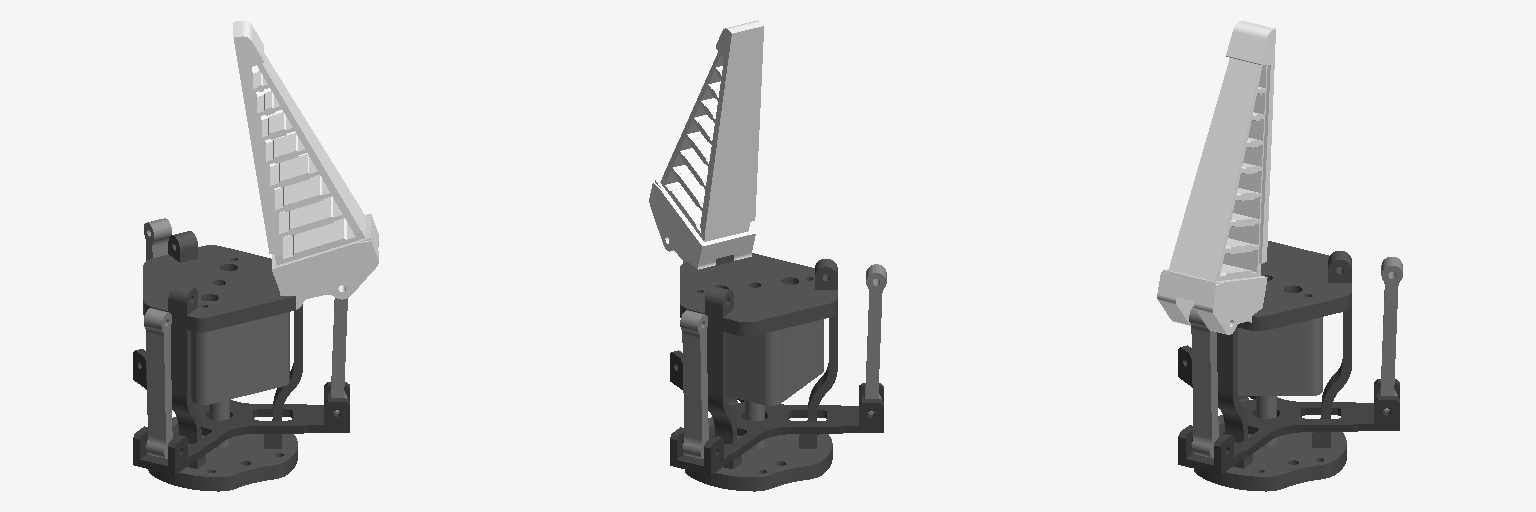
The robot description file, URDF, robot "gripper":
<?xml version="1.0" ?>
<!-- Generated using onshape-to-robot -->
<!-- Onshape document_id: 77ae2a3fa2dfa0e3fa6e957b -->
<robot name="gripper">
  <!-- Link 42_step_motor -->
  <link name="42_step_motor">
    <inertial>
      <origin xyz="0 0 0" rpy="0 0 0"/>
      <mass value="1e-09"/>
      <inertia ixx="1e-09" ixy="0" ixz="0" iyy="1e-09" iyz="0" izz="1e-09"/>
    </inertial>
    <!-- Part 42_step_motor -->
    <visual>
      <origin xyz="-0.00924528 -0.0810901 0.034284" rpy="-1.5708 -0 0"/>
      <geometry>
        <mesh filename="package://grasping_bringup/three_finger_gripper_urdf/assets/42_step_motor.stl"/>
      </geometry>
      <material name="42_step_motor_material">
        <color rgba="0.501961 0.501961 0.501961 1"/>
      </material>
    </visual>
    <collision>
      <origin xyz="-0.00924528 -0.0810901 0.034284" rpy="-1.5708 -0 0"/>
      <geometry>
        <mesh filename="package://grasping_bringup/three_finger_gripper_urdf/assets/42_step_motor.stl"/>
      </geometry>
    </collision>
    <!-- Part fa3_main_body -->
    <visual>
      <origin xyz="-0.00924528 -0.0810901 0.033684" rpy="-1.5708 -0 0"/>
      <geometry>
        <mesh filename="package://grasping_bringup/three_finger_gripper_urdf/assets/fa3_main_body.stl"/>
      </geometry>
      <material name="fa3_main_body_material">
        <color rgba="0.372549 0.372549 0.372549 1"/>
      </material>
    </visual>
    <collision>
      <origin xyz="-0.00924528 -0.0810901 0.033684" rpy="-1.5708 -0 0"/>
      <geometry>
        <mesh filename="package://grasping_bringup/three_finger_gripper_urdf/assets/fa3_main_body.stl"/>
      </geometry>
    </collision>
  </link>
  <!-- Frame closing_link_1_3_1 (dummy link + fixed joint) -->
  <link name="closing_link_1_3_1">
    <origin xyz="0 0 0" rpy="0 -0 0"/>
    <inertial>
      <origin xyz="0 0 0" rpy="0 0 0"/>
      <mass value="1e-9"/>
      <inertia ixx="0" ixy="0" ixz="0" iyy="0" iyz="0" izz="0"/>
    </inertial>
  </link>
  <joint name="closing_link_1_3_1_frame" type="fixed">
    <origin xyz="0.004 0.0275 0.079" rpy="-0 1.5708 0"/>
    <parent link="42_step_motor"/>
    <child link="closing_link_1_3_1"/>
    <axis xyz="0 0 0"/>
  </joint>
  <!-- Frame closing_link_1_3_1_z (dummy link + fixed joint) -->
  <link name="closing_link_1_3_1_z">
    <origin xyz="0 0 0" rpy="0 -0 0"/>
    <inertial>
      <origin xyz="0 0 0" rpy="0 0 0"/>
      <mass value="1e-9"/>
      <inertia ixx="0" ixy="0" ixz="0" iyy="0" iyz="0" izz="0"/>
    </inertial>
  </link>
  <joint name="closing_link_1_3_1_z_frame" type="fixed">
    <origin xyz="0.104 0.0275 0.079" rpy="-0 1.5708 0"/>
    <parent link="42_step_motor"/>
    <child link="closing_link_1_3_1_z"/>
    <axis xyz="0 0 0"/>
  </joint>
  <!-- Frame closing_link_2_3_2 (dummy link + fixed joint) -->
  <link name="closing_link_2_3_2">
    <origin xyz="0 0 0" rpy="0 -0 0"/>
    <inertial>
      <origin xyz="0 0 0" rpy="0 0 0"/>
      <mass value="1e-9"/>
      <inertia ixx="0" ixy="0" ixz="0" iyy="0" iyz="0" izz="0"/>
    </inertial>
  </link>
  <joint name="closing_link_2_3_2_frame" type="fixed">
    <origin xyz="-0.0258157 -0.0102859 0.079" rpy="1.5708 -0 0.523599"/>
    <parent link="42_step_motor"/>
    <child link="closing_link_2_3_2"/>
    <axis xyz="0 0 0"/>
  </joint>
  <!-- Frame closing_link_2_3_2_z (dummy link + fixed joint) -->
  <link name="closing_link_2_3_2_z">
    <origin xyz="0 0 0" rpy="0 -0 0"/>
    <inertial>
      <origin xyz="0 0 0" rpy="0 0 0"/>
      <mass value="1e-9"/>
      <inertia ixx="0" ixy="0" ixz="0" iyy="0" iyz="0" izz="0"/>
    </inertial>
  </link>
  <joint name="closing_link_2_3_2_z_frame" type="fixed">
    <origin xyz="0.0241843 -0.0968884 0.079" rpy="1.5708 -0 0.523599"/>
    <parent link="42_step_motor"/>
    <child link="closing_link_2_3_2_z"/>
    <axis xyz="0 0 0"/>
  </joint>
  <!-- Frame closing_link_3_3_1 (dummy link + fixed joint) -->
  <link name="closing_link_3_3_1">
    <origin xyz="0 0 0" rpy="0 -0 0"/>
    <inertial>
      <origin xyz="0 0 0" rpy="0 0 0"/>
      <mass value="1e-9"/>
      <inertia ixx="0" ixy="0" ixz="0" iyy="0" iyz="0" izz="0"/>
    </inertial>
  </link>
  <joint name="closing_link_3_3_1_frame" type="fixed">
    <origin xyz="0.0258157 -0.0102859 0.079" rpy="-1.5708 -0 -0.523599"/>
    <parent link="42_step_motor"/>
    <child link="closing_link_3_3_1"/>
    <axis xyz="0 0 0"/>
  </joint>
  <!-- Frame closing_link_3_3_1_z (dummy link + fixed joint) -->
  <link name="closing_link_3_3_1_z">
    <origin xyz="0 0 0" rpy="0 -0 0"/>
    <inertial>
      <origin xyz="0 0 0" rpy="0 0 0"/>
      <mass value="1e-9"/>
      <inertia ixx="0" ixy="0" ixz="0" iyy="0" iyz="0" izz="0"/>
    </inertial>
  </link>
  <joint name="closing_link_3_3_1_z_frame" type="fixed">
    <origin xyz="0.0758157 0.0763166 0.079" rpy="-1.5708 -0 -0.523599"/>
    <parent link="42_step_motor"/>
    <child link="closing_link_3_3_1_z"/>
    <axis xyz="0 0 0"/>
  </joint>
  <!-- Frame eef (dummy link + fixed joint) -->
  <link name="eef">
    <origin xyz="0 0 0" rpy="0 -0 0"/>
    <inertial>
      <origin xyz="0 0 0" rpy="0 0 0"/>
      <mass value="1e-9"/>
      <inertia ixx="0" ixy="0" ixz="0" iyy="0" iyz="0" izz="0"/>
    </inertial>
  </link>
  <joint name="eef_frame" type="fixed">
    <origin xyz="1.26635e-16 -6.93889e-17 0.184" rpy="0 -0 0"/>
    <parent link="42_step_motor"/>
    <child link="eef"/>
    <axis xyz="0 0 0"/>
  </joint>
  <!-- Link 42_motor_nut -->
  <link name="42_motor_nut">
    <inertial>
      <origin xyz="0 0 0" rpy="0 0 0"/>
      <mass value="1e-09"/>
      <inertia ixx="1e-09" ixy="0" ixz="0" iyy="1e-09" iyz="0" izz="1e-09"/>
    </inertial>
    <!-- Part fa3_driveboard -->
    <visual>
      <origin xyz="-0.00924528 -0.0810901 0.0190666" rpy="-1.5708 -4.90029e-16 0"/>
      <geometry>
        <mesh filename="package://grasping_bringup/three_finger_gripper_urdf/assets/fa3_driveboard.stl"/>
      </geometry>
      <material name="fa3_driveboard_material">
        <color rgba="0.309804 0.309804 0.309804 1"/>
      </material>
    </visual>
    <collision>
      <origin xyz="-0.00924528 -0.0810901 0.0190666" rpy="-1.5708 -4.90029e-16 0"/>
      <geometry>
        <mesh filename="package://grasping_bringup/three_finger_gripper_urdf/assets/fa3_driveboard.stl"/>
      </geometry>
    </collision>
    <!-- Part 42_motor_nut -->
    <visual>
      <origin xyz="-0.00924528 -0.0810901 0.0190666" rpy="-1.5708 -0 0"/>
      <geometry>
        <mesh filename="package://grasping_bringup/three_finger_gripper_urdf/assets/42_motor_nut.stl"/>
      </geometry>
      <material name="42_motor_nut_material">
        <color rgba="1 0.952941 0.380392 1"/>
      </material>
    </visual>
    <collision>
      <origin xyz="-0.00924528 -0.0810901 0.0190666" rpy="-1.5708 -0 0"/>
      <geometry>
        <mesh filename="package://grasping_bringup/three_finger_gripper_urdf/assets/42_motor_nut.stl"/>
      </geometry>
    </collision>
  </link>
  <!-- Link fa3_link_2 -->
  <link name="fa3_link_2">
    <inertial>
      <origin xyz="0 0 0" rpy="0 0 0"/>
      <mass value="1e-09"/>
      <inertia ixx="1e-09" ixy="0" ixz="0" iyy="1e-09" iyz="0" izz="1e-09"/>
    </inertial>
    <!-- Part fa3_link_2 -->
    <visual>
      <origin xyz="-0.0147666 0.12609 0.00524528" rpy="1.5708 1.5708 0"/>
      <geometry>
        <mesh filename="package://grasping_bringup/three_finger_gripper_urdf/assets/fa3_link_2.stl"/>
      </geometry>
      <material name="fa3_link_2_material">
        <color rgba="0.603922 0.603922 0.603922 1"/>
      </material>
    </visual>
    <collision>
      <origin xyz="-0.0147666 0.12609 0.00524528" rpy="1.5708 1.5708 0"/>
      <geometry>
        <mesh filename="package://grasping_bringup/three_finger_gripper_urdf/assets/fa3_link_2.stl"/>
      </geometry>
    </collision>
  </link>
  <!-- Link famr20100_soft_2 -->
  <link name="famr20100_soft_2">
    <inertial>
      <origin xyz="0 0 0" rpy="0 0 0"/>
      <mass value="1e-09"/>
      <inertia ixx="1e-09" ixy="0" ixz="0" iyy="1e-09" iyz="0" izz="1e-09"/>
    </inertial>
    <!-- Part famr20100_soft_2 -->
    <visual>
      <origin xyz="0.100828 -0.0875338 -0.00524528" rpy="-1.013 -1.5708 0"/>
      <geometry>
        <mesh filename="package://grasping_bringup/three_finger_gripper_urdf/assets/famr20100_soft_2.stl"/>
      </geometry>
      <material name="famr20100_soft_2_material">
        <color rgba="1 1 1 1"/>
      </material>
    </visual>
    <collision>
      <origin xyz="0.100828 -0.0875338 -0.00524528" rpy="-1.013 -1.5708 0"/>
      <geometry>
        <mesh filename="package://grasping_bringup/three_finger_gripper_urdf/assets/famr20100_soft_2.stl"/>
      </geometry>
    </collision>
  </link>
  <!-- Frame closing_link_1_3_2 (dummy link + fixed joint) -->
  <link name="closing_link_1_3_2">
    <origin xyz="0 0 0" rpy="0 -0 0"/>
    <inertial>
      <origin xyz="0 0 0" rpy="0 0 0"/>
      <mass value="1e-9"/>
      <inertia ixx="0" ixy="0" ixz="0" iyy="0" iyz="0" izz="0"/>
    </inertial>
  </link>
  <joint name="closing_link_1_3_2_frame" type="fixed">
    <origin xyz="0.00490177 -0.01939 0.008" rpy="-6.17872e-23 -2.78409e-23 0.557797"/>
    <parent link="famr20100_soft_2"/>
    <child link="closing_link_1_3_2"/>
    <axis xyz="0 0 0"/>
  </joint>
  <!-- Frame closing_link_1_3_2_z (dummy link + fixed joint) -->
  <link name="closing_link_1_3_2_z">
    <origin xyz="0 0 0" rpy="0 -0 0"/>
    <inertial>
      <origin xyz="0 0 0" rpy="0 0 0"/>
      <mass value="1e-9"/>
      <inertia ixx="0" ixy="0" ixz="0" iyy="0" iyz="0" izz="0"/>
    </inertial>
  </link>
  <joint name="closing_link_1_3_2_z_frame" type="fixed">
    <origin xyz="0.00490177 -0.01939 0.108" rpy="-6.17872e-23 -2.78409e-23 0.557797"/>
    <parent link="famr20100_soft_2"/>
    <child link="closing_link_1_3_2_z"/>
    <axis xyz="0 0 0"/>
  </joint>
  <!-- Joint from fa3_link_2 to famr20100_soft_2 -->
  <joint name="link_1_2" type="revolute">
    <origin xyz="-0.0539779 -0.00154554 0" rpy="3.14159 -1.46937e-39 0"/>
    <parent link="fa3_link_2"/>
    <child link="famr20100_soft_2"/>
    <axis xyz="0 0 1"/>
    <limit effort="10" velocity="10" lower="-3.141592653589793" upper="3.141592653589793"/>
  </joint>
  <!-- Joint from 42_motor_nut to fa3_link_2 -->
  <joint name="link_1_1" type="revolute">
    <origin xyz="-0.004 0.045 0.0043" rpy="1.5708 1.56379 -1.5708"/>
    <parent link="42_motor_nut"/>
    <child link="fa3_link_2"/>
    <axis xyz="0 0 1"/>
    <limit effort="10" velocity="10" lower="-3.141592653589793" upper="3.141592653589793"/>
  </joint>
  <!-- Link fa3_link -->
  <link name="fa3_link">
    <inertial>
      <origin xyz="0 0 0" rpy="0 0 0"/>
      <mass value="1e-09"/>
      <inertia ixx="1e-09" ixy="0" ixz="0" iyy="1e-09" iyz="0" izz="1e-09"/>
    </inertial>
    <!-- Part fa3_link -->
    <visual>
      <origin xyz="-0.00355171 0.0147666 0.0616035" rpy="3.14159 -0.523599 3.83739e-20"/>
      <geometry>
        <mesh filename="package://grasping_bringup/three_finger_gripper_urdf/assets/fa3_link.stl"/>
      </geometry>
      <material name="fa3_link_material">
        <color rgba="0.603922 0.603922 0.603922 1"/>
      </material>
    </visual>
    <collision>
      <origin xyz="-0.00355171 0.0147666 0.0616035" rpy="3.14159 -0.523599 3.83739e-20"/>
      <geometry>
        <mesh filename="package://grasping_bringup/three_finger_gripper_urdf/assets/fa3_link.stl"/>
      </geometry>
    </collision>
  </link>
  <!-- Link famr20100_soft_1 -->
  <link name="famr20100_soft_1">
    <inertial>
      <origin xyz="0 0 0" rpy="0 0 0"/>
      <mass value="1e-09"/>
      <inertia ixx="1e-09" ixy="0" ixz="0" iyy="1e-09" iyz="0" izz="1e-09"/>
    </inertial>
    <!-- Part famr20100_soft_1 -->
    <visual>
      <origin xyz="-0.00200617 0.0392113 -0.0616035" rpy="4.16642e-16 0.523599 -4.00617e-18"/>
      <geometry>
        <mesh filename="package://grasping_bringup/three_finger_gripper_urdf/assets/famr20100_soft_1.stl"/>
      </geometry>
      <material name="famr20100_soft_1_material">
        <color rgba="1 1 1 1"/>
      </material>
    </visual>
    <collision>
      <origin xyz="-0.00200617 0.0392113 -0.0616035" rpy="4.16642e-16 0.523599 -4.00617e-18"/>
      <geometry>
        <mesh filename="package://grasping_bringup/three_finger_gripper_urdf/assets/famr20100_soft_1.stl"/>
      </geometry>
    </collision>
  </link>
  <!-- Frame closing_link_2_3_1 (dummy link + fixed joint) -->
  <link name="closing_link_2_3_1">
    <origin xyz="0 0 0" rpy="0 -0 0"/>
    <inertial>
      <origin xyz="0 0 0" rpy="0 0 0"/>
      <mass value="1e-9"/>
      <inertia ixx="0" ixy="0" ixz="0" iyy="0" iyz="0" izz="0"/>
    </inertial>
  </link>
  <joint name="closing_link_2_3_1_frame" type="fixed">
    <origin xyz="0.0190455 -0.00610471 0.008" rpy="-3.14159 1.11022e-16 6.93889e-17"/>
    <parent link="famr20100_soft_1"/>
    <child link="closing_link_2_3_1"/>
    <axis xyz="0 0 0"/>
  </joint>
  <!-- Frame closing_link_2_3_1_z (dummy link + fixed joint) -->
  <link name="closing_link_2_3_1_z">
    <origin xyz="0 0 0" rpy="0 -0 0"/>
    <inertial>
      <origin xyz="0 0 0" rpy="0 0 0"/>
      <mass value="1e-9"/>
      <inertia ixx="0" ixy="0" ixz="0" iyy="0" iyz="0" izz="0"/>
    </inertial>
  </link>
  <joint name="closing_link_2_3_1_z_frame" type="fixed">
    <origin xyz="0.0190455 -0.00610471 -0.092" rpy="-3.14159 1.11022e-16 6.93889e-17"/>
    <parent link="famr20100_soft_1"/>
    <child link="closing_link_2_3_1_z"/>
    <axis xyz="0 0 0"/>
  </joint>
  <!-- Joint from fa3_link to famr20100_soft_1 -->
  <joint name="link_2_2" type="revolute">
    <origin xyz="-0.00154554 0.0539779 -3.81639e-17" rpy="-3.14159 -6.32827e-15 -0.557797"/>
    <parent link="fa3_link"/>
    <child link="famr20100_soft_1"/>
    <axis xyz="0 0 1"/>
    <limit effort="10" velocity="10" lower="-3.141592653589793" upper="3.141592653589793"/>
  </joint>
  <!-- Joint from 42_motor_nut to fa3_link -->
  <joint name="link_2_1" type="revolute">
    <origin xyz="-0.0369711 -0.0259641 0.0043" rpy="1.5708 -0.00701038 0.523599"/>
    <parent link="42_motor_nut"/>
    <child link="fa3_link"/>
    <axis xyz="0 0 1"/>
    <limit effort="10" velocity="10" lower="-3.141592653589793" upper="3.141592653589793"/>
  </joint>
  <!-- Link fa3_link_1 -->
  <link name="fa3_link_1">
    <inertial>
      <origin xyz="0 0 0" rpy="0 0 0"/>
      <mass value="1e-09"/>
      <inertia ixx="1e-09" ixy="0" ixz="0" iyy="1e-09" iyz="0" izz="1e-09"/>
    </inertial>
    <!-- Part fa3_link_1 -->
    <visual>
      <origin xyz="-0.0124616 -0.0147666 -0.0788487" rpy="5.08283e-16 -0.523599 -1.18922e-18"/>
      <geometry>
        <mesh filename="package://grasping_bringup/three_finger_gripper_urdf/assets/fa3_link_1.stl"/>
      </geometry>
      <material name="fa3_link_1_material">
        <color rgba="0.603922 0.603922 0.603922 1"/>
      </material>
    </visual>
    <collision>
      <origin xyz="-0.0124616 -0.0147666 -0.0788487" rpy="5.08283e-16 -0.523599 -1.18922e-18"/>
      <geometry>
        <mesh filename="package://grasping_bringup/three_finger_gripper_urdf/assets/fa3_link_1.stl"/>
      </geometry>
    </collision>
  </link>
  <!-- Link famr20100_soft -->
  <link name="famr20100_soft">
    <inertial>
      <origin xyz="0 0 0" rpy="0 0 0"/>
      <mass value="1e-09"/>
      <inertia ixx="1e-09" ixy="0" ixz="0" iyy="1e-09" iyz="0" izz="1e-09"/>
    </inertial>
    <!-- Part famr20100_soft -->
    <visual>
      <origin xyz="0.00887129 0.040682 -0.0708487" rpy="2.56395e-15 -0.523599 -0.557797"/>
      <geometry>
        <mesh filename="package://grasping_bringup/three_finger_gripper_urdf/assets/famr20100_soft.stl"/>
      </geometry>
      <material name="famr20100_soft_material">
        <color rgba="1 1 1 1"/>
      </material>
    </visual>
    <collision>
      <origin xyz="0.00887129 0.040682 -0.0708487" rpy="2.56395e-15 -0.523599 -0.557797"/>
      <geometry>
        <mesh filename="package://grasping_bringup/three_finger_gripper_urdf/assets/famr20100_soft.stl"/>
      </geometry>
    </collision>
  </link>
  <!-- Frame closing_link_3_3_2 (dummy link + fixed joint) -->
  <link name="closing_link_3_3_2">
    <origin xyz="0 0 0" rpy="0 -0 0"/>
    <inertial>
      <origin xyz="0 0 0" rpy="0 0 0"/>
      <mass value="1e-9"/>
      <inertia ixx="0" ixy="0" ixz="0" iyy="0" iyz="0" izz="0"/>
    </inertial>
  </link>
  <joint name="closing_link_3_3_2_frame" type="fixed">
    <origin xyz="-0.01939 0.00490177 0.008" rpy="4.996e-16 1.60982e-15 -2.12859"/>
    <parent link="famr20100_soft"/>
    <child link="closing_link_3_3_2"/>
    <axis xyz="0 0 0"/>
  </joint>
  <!-- Frame closing_link_3_3_2_z (dummy link + fixed joint) -->
  <link name="closing_link_3_3_2_z">
    <origin xyz="0 0 0" rpy="0 -0 0"/>
    <inertial>
      <origin xyz="0 0 0" rpy="0 0 0"/>
      <mass value="1e-9"/>
      <inertia ixx="0" ixy="0" ixz="0" iyy="0" iyz="0" izz="0"/>
    </inertial>
  </link>
  <joint name="closing_link_3_3_2_z_frame" type="fixed">
    <origin xyz="-0.01939 0.00490177 0.108" rpy="4.996e-16 1.60982e-15 -2.12859"/>
    <parent link="famr20100_soft"/>
    <child link="closing_link_3_3_2_z"/>
    <axis xyz="0 0 0"/>
  </joint>
  <!-- Joint from fa3_link_1 to famr20100_soft -->
  <joint name="link_3_2" type="revolute">
    <origin xyz="0.00154554 -0.0539779 -0.008" rpy="0 -0 0"/>
    <parent link="fa3_link_1"/>
    <child link="famr20100_soft"/>
    <axis xyz="0 0 1"/>
    <limit effort="10" velocity="10" lower="-3.141592653589793" upper="3.141592653589793"/>
  </joint>
  <!-- Joint from 42_motor_nut to fa3_link_1 -->
  <joint name="link_3_1" type="revolute">
    <origin xyz="0.0409711 -0.0190359 0.0043" rpy="-1.5708 0.00701038 -0.523599"/>
    <parent link="42_motor_nut"/>
    <child link="fa3_link_1"/>
    <axis xyz="0 0 1"/>
    <limit effort="10" velocity="10" lower="-3.141592653589793" upper="3.141592653589793"/>
  </joint>
  <!-- Joint from 42_step_motor to 42_motor_nut -->
  <joint name="slide" type="prismatic">
    <origin xyz="1.68268e-16 1.52656e-16 0.0255" rpy="0 -0 0"/>
    <parent link="42_step_motor"/>
    <child link="42_motor_nut"/>
    <axis xyz="0 0 1"/>
    <limit effort="10" velocity="10" lower="-0.01344" upper="-1.73472e-18"/>
  </joint>
</robot>

--- Facts derived from the render (not from the file) ---
Views: 3 orthographic renders of the robot side by side, from view 1: azimuth 30°, elevation 25°; view 2: azimuth 150°, elevation 25°; view 3: azimuth 270°, elevation 25°.
Robot: gripper — 21 links, 20 joints (6 revolute, 1 prismatic, 13 fixed); root link 42_step_motor; default pose: joints at zero except 1 at the middle of their limits (slide = -0.0067).
Links seen in each view (by area): view 1: 42_step_motor, famr20100_soft, 42_motor_nut, fa3_link, fa3_link_1, fa3_link_2; view 2: 42_step_motor, famr20100_soft, 42_motor_nut, fa3_link_2, fa3_link; view 3: famr20100_soft, 42_step_motor, 42_motor_nut, fa3_link_1, fa3_link_2.
Link boxes in pixels (left/top/right/bottom): 42_step_motor: left=143, top=231, right=302, bottom=491; famr20100_soft: left=233, top=20, right=378, bottom=309; 42_motor_nut: left=133, top=349, right=349, bottom=474; fa3_link: left=144, top=308, right=172, bottom=458; fa3_link_1: left=327, top=298, right=347, bottom=413; fa3_link_2: left=144, top=218, right=171, bottom=260; 42_step_motor: left=680, top=253, right=837, bottom=491; famr20100_soft: left=649, top=20, right=763, bottom=269; 42_motor_nut: left=670, top=350, right=883, bottom=475; fa3_link_2: left=680, top=310, right=708, bottom=458; fa3_link: left=861, top=264, right=886, bottom=414; famr20100_soft: left=1157, top=21, right=1275, bottom=334; 42_step_motor: left=1194, top=241, right=1351, bottom=491; 42_motor_nut: left=1178, top=345, right=1399, bottom=474; fa3_link_1: left=1189, top=306, right=1218, bottom=457; fa3_link_2: left=1376, top=257, right=1402, bottom=411.
Bounding box of the posed robot: 0.1067 × 0.0918 × 0.1812 m (x, y, z).
Meshes: 10 distinct files referenced, 7 mesh visuals loaded (7 binary STL); not drawn: 3 (reference not matched to a file when rendering).
